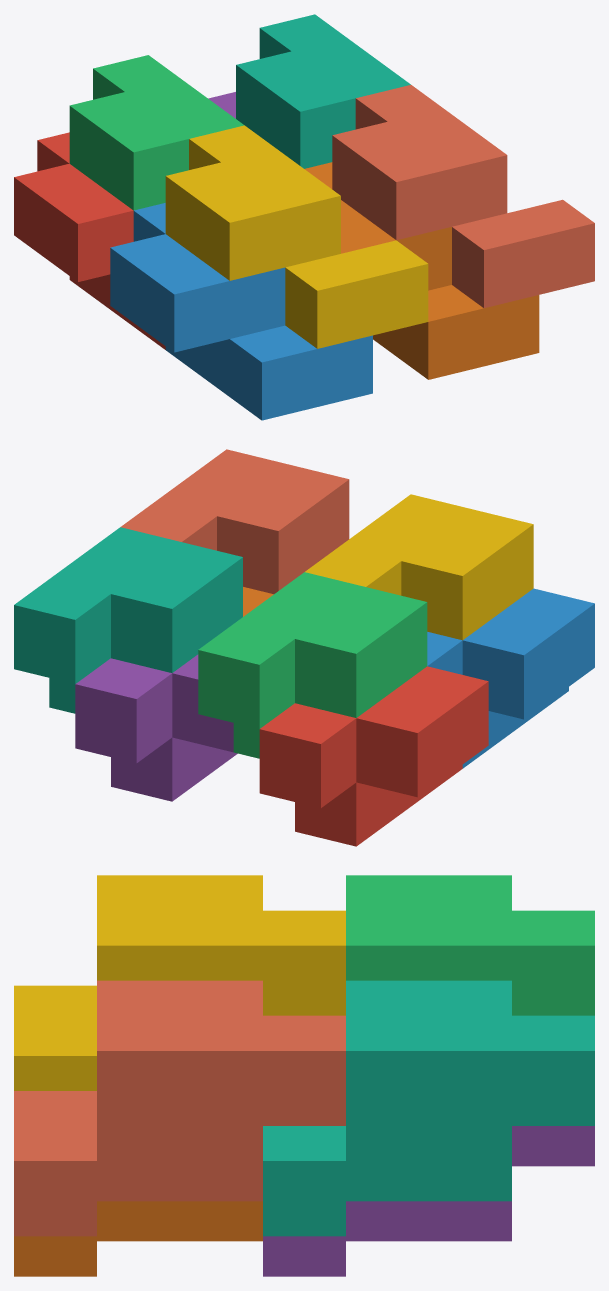
The model's file is tiling.obj.
The picture shows the model from 3 angles, top to bottom: view 1: azimuth 30°, elevation 25°; view 2: azimuth 150°, elevation 25°; view 3: azimuth 270°, elevation 25°; orthographic projection. The views are drawn at different scales.
Visible parts, largest first — view 1: copy_1_domain_4, copy_1_domain_8, copy_1_domain_2, copy_1_domain_3, copy_1_domain_7, copy_1_domain_6, copy_1_domain_1; view 2: copy_1_domain_3, copy_1_domain_7, copy_1_domain_1, copy_1_domain_4, copy_1_domain_8, copy_1_domain_5, copy_1_domain_2; view 3: copy_1_domain_8, copy_1_domain_7, copy_1_domain_4, copy_1_domain_3, copy_1_domain_5, copy_1_domain_6.
Boxes of the visible parts, left/top/right/bottom form: copy_1_domain_4: left=165, top=125, right=428, bottom=348; copy_1_domain_8: left=332, top=85, right=594, bottom=308; copy_1_domain_2: left=110, top=203, right=372, bottom=420; copy_1_domain_3: left=69, top=55, right=244, bottom=210; copy_1_domain_7: left=236, top=14, right=410, bottom=168; copy_1_domain_6: left=304, top=162, right=539, bottom=379; copy_1_domain_1: left=14, top=132, right=165, bottom=349; copy_1_domain_3: left=198, top=572, right=427, bottom=758; copy_1_domain_7: left=14, top=527, right=242, bottom=713; copy_1_domain_1: left=259, top=666, right=488, bottom=846; copy_1_domain_4: left=305, top=494, right=533, bottom=640; copy_1_domain_8: left=120, top=449, right=349, bottom=594; copy_1_domain_5: left=75, top=654, right=237, bottom=801; copy_1_domain_2: left=427, top=588, right=594, bottom=768; copy_1_domain_8: left=14, top=980, right=345, bottom=1236; copy_1_domain_7: left=263, top=980, right=594, bottom=1236; copy_1_domain_4: left=14, top=875, right=345, bottom=1090; copy_1_domain_3: left=346, top=875, right=594, bottom=1015; copy_1_domain_5: left=263, top=1126, right=594, bottom=1276; copy_1_domain_6: left=14, top=1201, right=262, bottom=1276.
Bounding box in the file's own units: 7 × 3 × 7.
